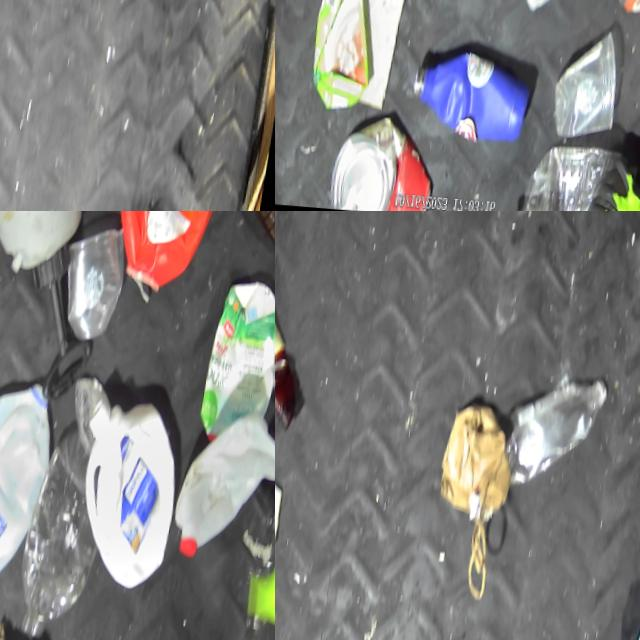can: (332, 117, 451, 211)
milk_jug: (67, 394, 194, 593), (176, 407, 275, 564), (0, 375, 60, 600), (275, 439, 296, 582)
non_white_jug: (101, 211, 233, 291)
plastic_bottle: (18, 446, 116, 640), (516, 368, 612, 487), (520, 139, 623, 211)
